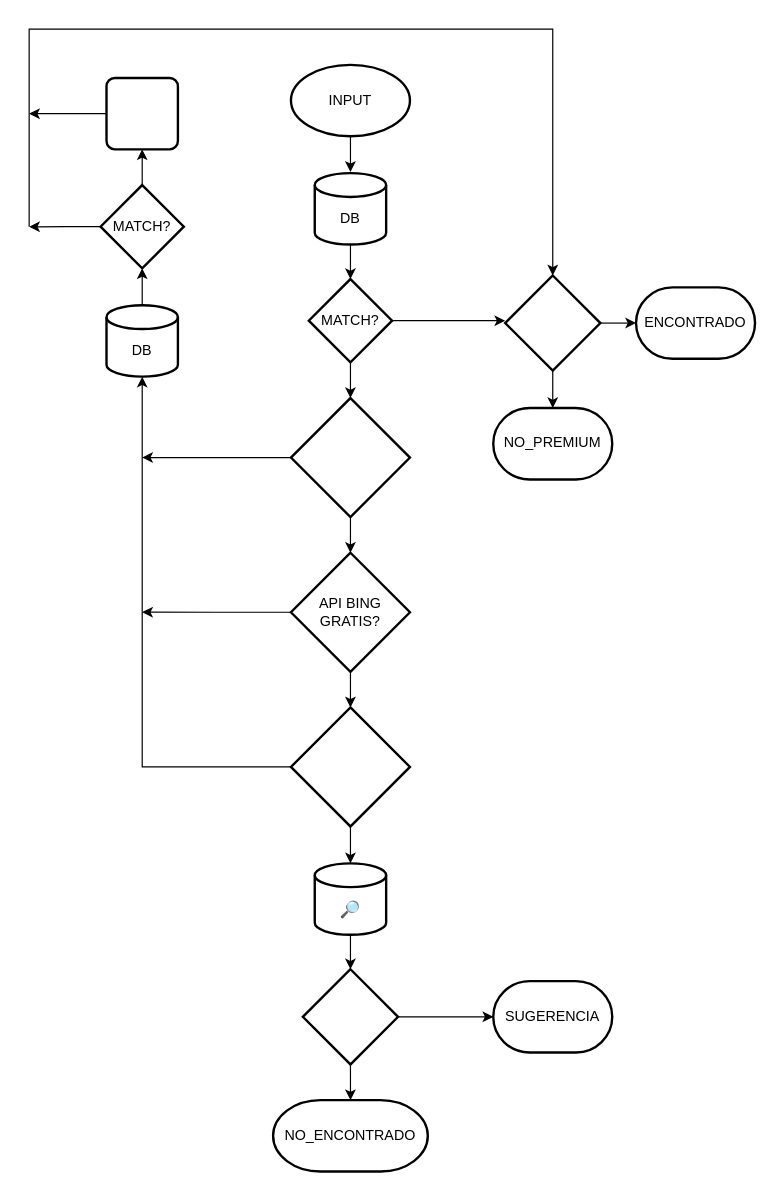
This 777x1194 diagram has some shape labels left out. The shapes that lost their labels are listed below. From the top down, each one's centre as x and y in pixels, then its label:
At [141,113]: "Parsear WEB".
At [552,322]: "PREMIUM?".
At [350,457]: "API GOOGLE?".
At [350,766]: "API BING DE PAGO?".
At [350,1016]: "BUENA?".
